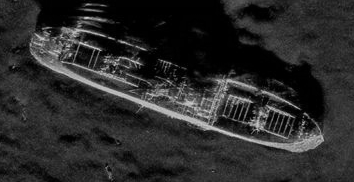ship: (26, 18, 328, 155)
